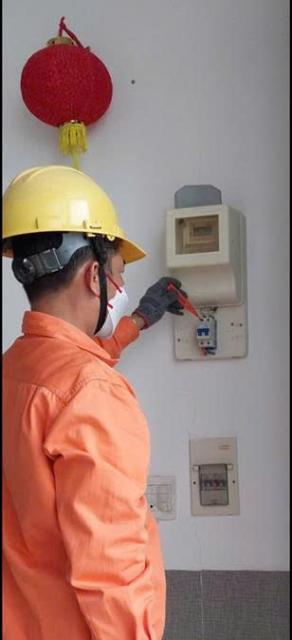gloves: (106, 265, 199, 335)
helmet: (0, 152, 158, 277)
